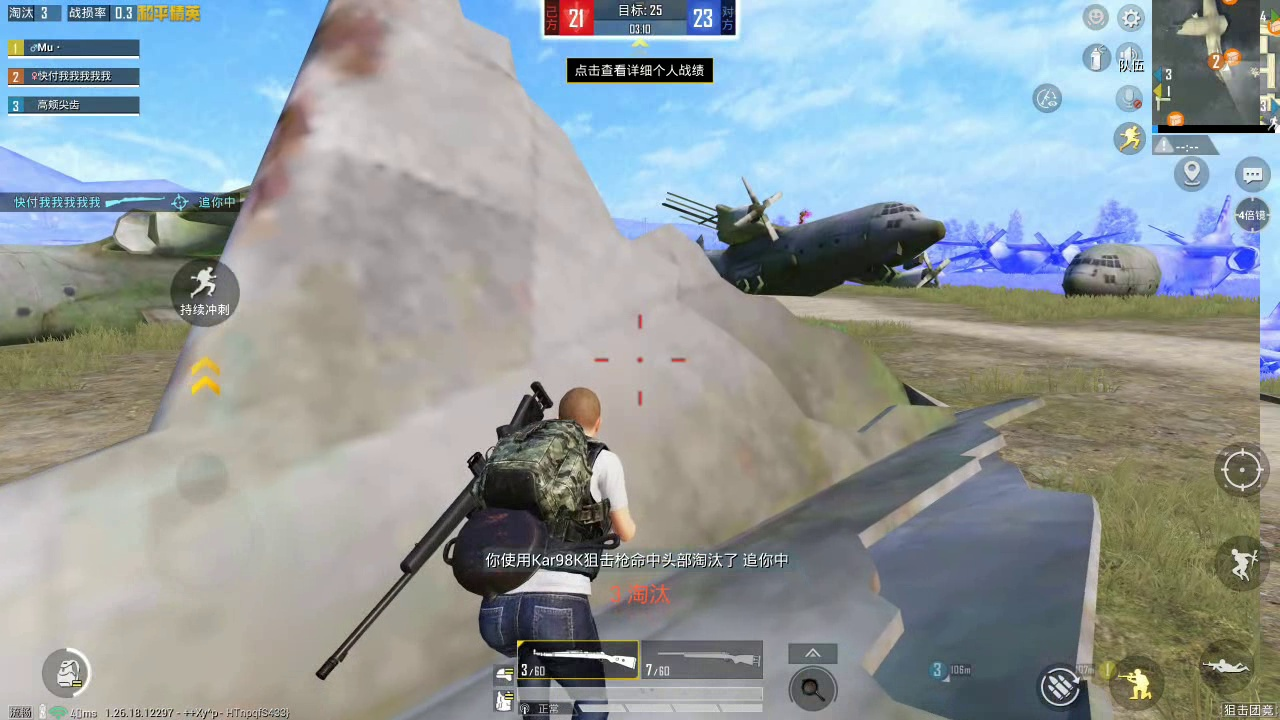enemy: (799, 208, 810, 224)
